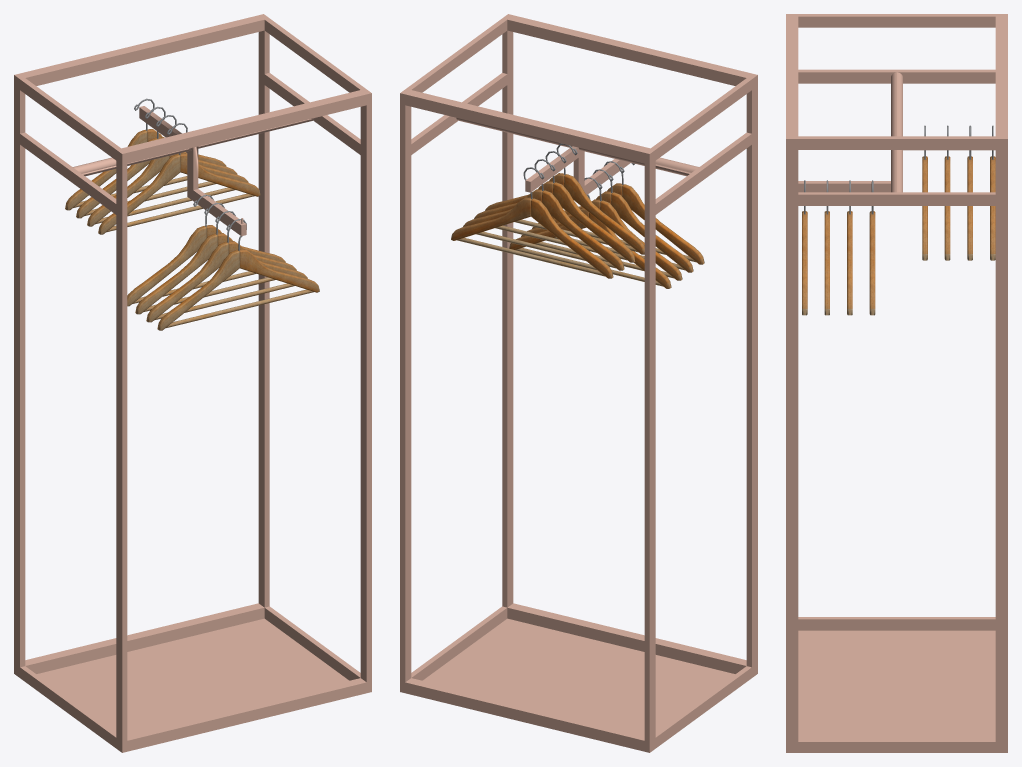
3 renders of one model, left to right at view 1: azimuth 30°, elevation 25°; view 2: azimuth 150°, elevation 25°; view 3: azimuth 270°, elevation 25°, orthographic. The views are drawn at different scales.
Visible parts, largest first — view 1: 2'Frame, hang1.001, hang1; view 2: 2'Frame, hang1, hang1.001; view 3: 2'Frame, hang1.001, hang1.
Part boxes in pixels (x1,y1,x2,y2): 2'Frame: (14,14,371,752); hang1.001: (127,194,319,330); hang1: (65,98,260,234); 2'Frame: (400,14,757,752); hang1: (451,143,644,278); hang1.001: (509,161,704,288); 2'Frame: (786,14,1007,752); hang1.001: (802,180,875,315); hang1: (922,125,995,260).
Size of the model in its own units: 24 by 55 by 18.
Materials: 3 (2 with a texture image).
